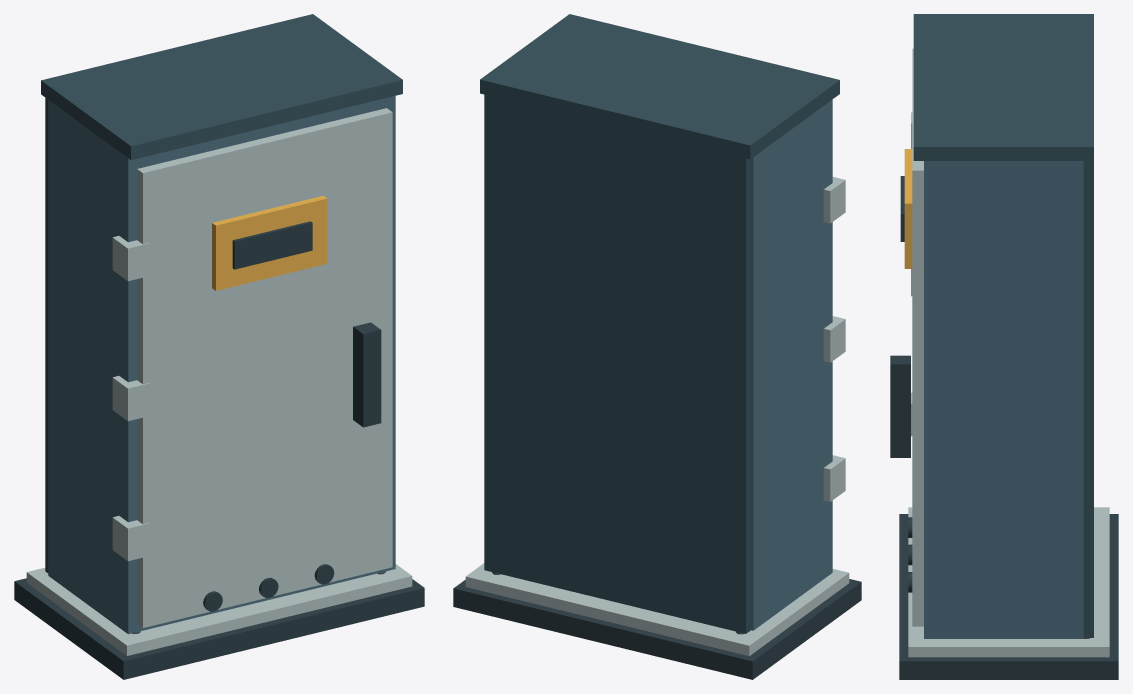
Rendered from electrical_cabinet.glb.
The picture shows the model from 3 angles, left to right: view 1: azimuth 30°, elevation 25°; view 2: azimuth 150°, elevation 25°; view 3: azimuth 270°, elevation 25°; orthographic projection.
Visible parts, largest first — view 1: electrical_cabinet__door, electrical_cabinet__body; view 2: electrical_cabinet__body; view 3: electrical_cabinet__body, electrical_cabinet__door.
Part boxes in pixels (bbox=[...]): electrical_cabinet__door: bbox=[137, 108, 392, 627]; electrical_cabinet__body: bbox=[14, 14, 424, 679]; electrical_cabinet__body: bbox=[453, 14, 861, 679]; electrical_cabinet__body: bbox=[899, 14, 1118, 679]; electrical_cabinet__door: bbox=[890, 48, 923, 626].
Bounding box in the file's own units: 1.35 × 2.25 × 0.885.
